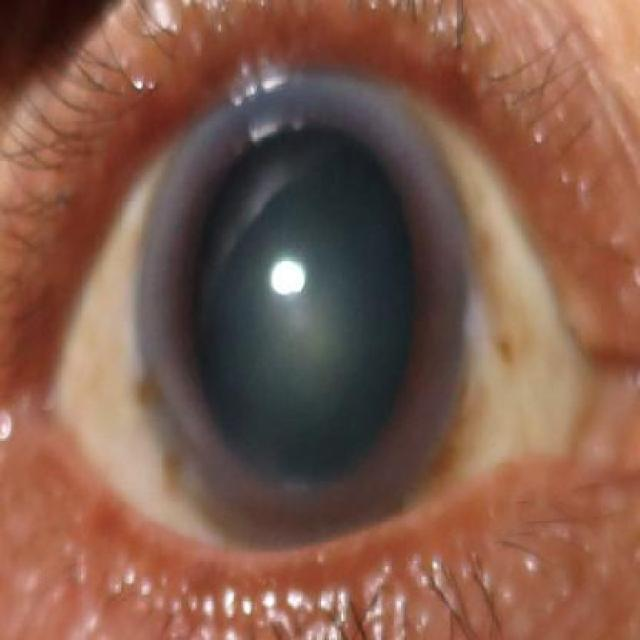Cataract: (137, 68, 464, 552)
